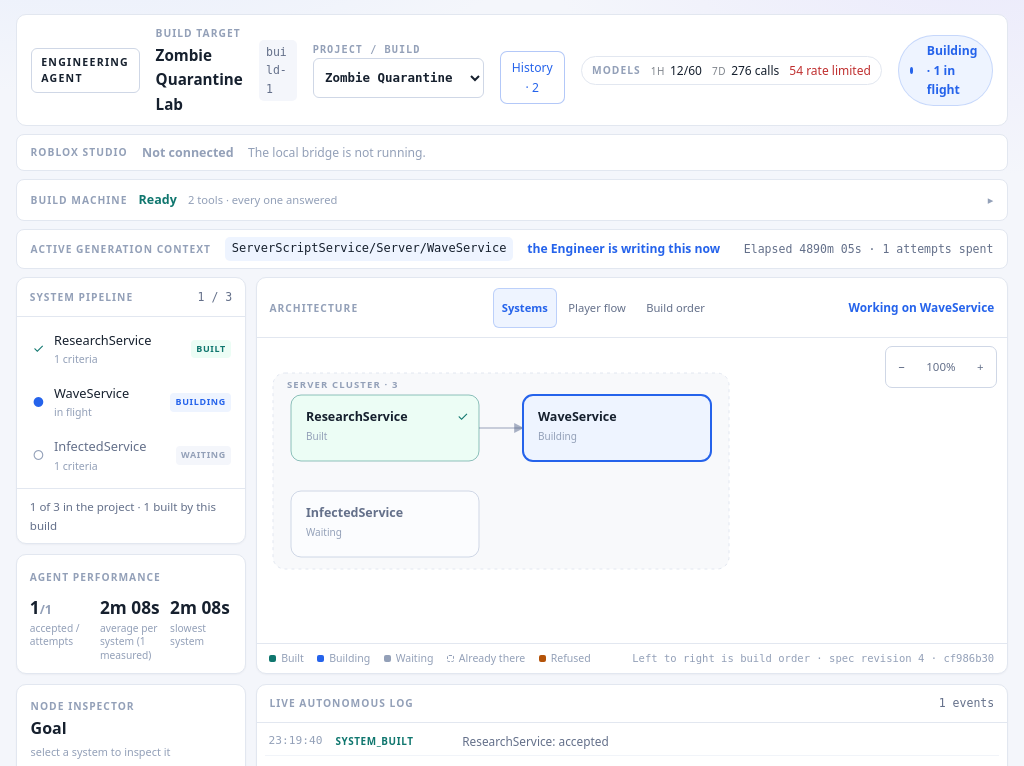
Test case: the build machine › lists each tool with its version when opened
This screenshot has width=1024, height=766.
Expected: the text "Ready" is shown, [139,190,177,210]
Click the button "Build machine Ready 2 tools · every one answered ▸" at (79, 200), box [17,180,1007,220]
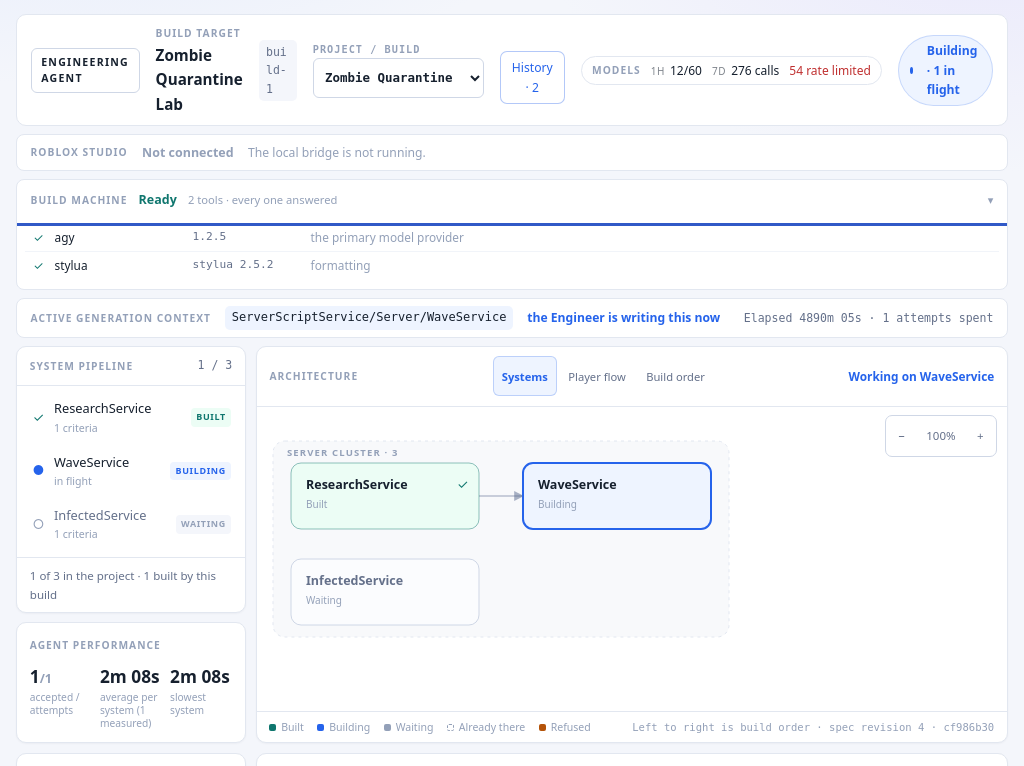
Expected: the text "agy" is shown, [55,229,75,245]
Expected: the text "1.2.5" is shown, [193,230,226,243]
Expected: the text "stylua 2.5.2" is shown, [193,258,273,271]
